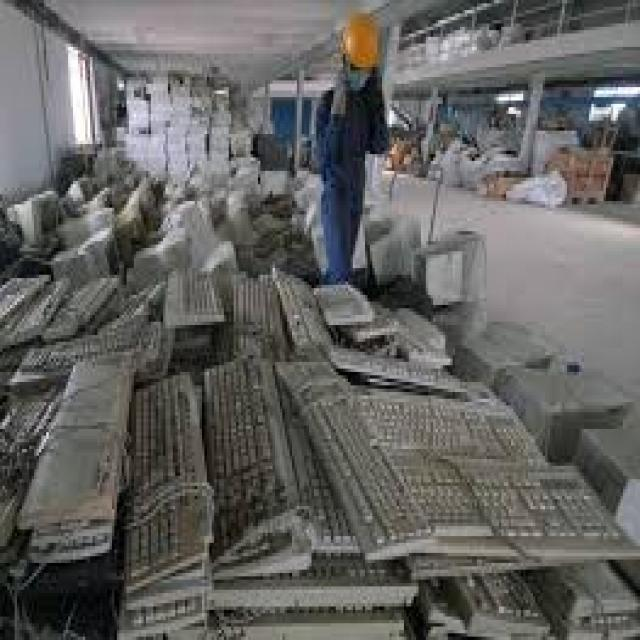Safety-Helmet: (326, 0, 394, 84)
